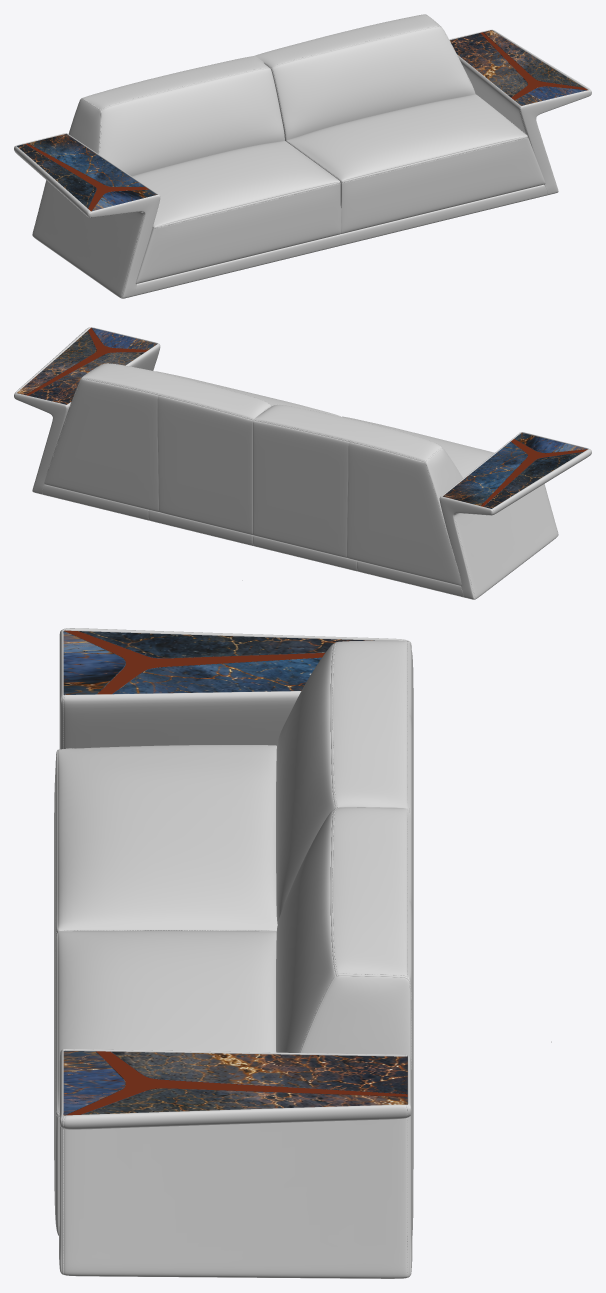
Rendered from SLN_AVENTA_4Str.glb.
The picture shows the model from 3 angles, top to bottom: view 1: azimuth 30°, elevation 25°; view 2: azimuth 150°, elevation 25°; view 3: azimuth 270°, elevation 25°; orthographic projection. The views are drawn at different scales.
Parts seen in each view (by area): view 1: AVENTA.4STR; view 2: AVENTA.4STR; view 3: AVENTA.4STR.
Boxes of the visible parts, <box> form: AVENTA.4STR: <box>14,14,591,298</box>; AVENTA.4STR: <box>14,327,591,599</box>; AVENTA.4STR: <box>54,628,551,1278</box>.
Bounding box in the file's own units: 3 × 0.7613 × 1.28.
Materials: 4 (1 with a texture image).
